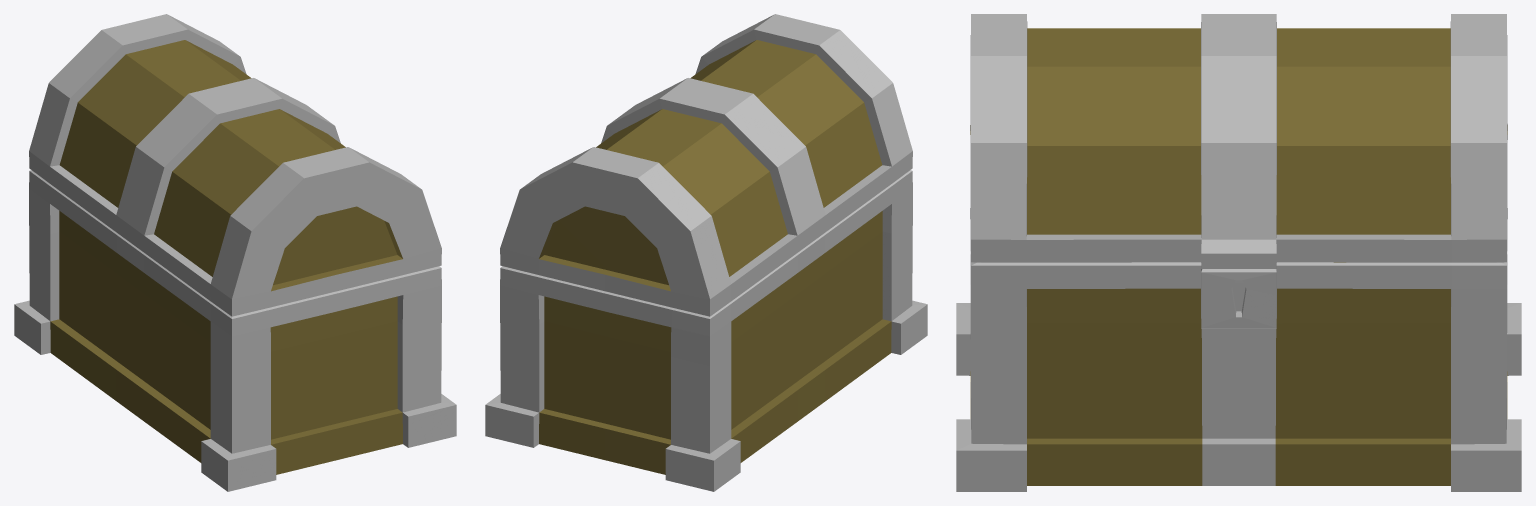
Rendered from treasureChestShaded.fbx.
The picture shows the model from 3 angles, left to right: view 1: azimuth 30°, elevation 25°; view 2: azimuth 150°, elevation 25°; view 3: azimuth 270°, elevation 25°; orthographic projection. The views are drawn at different scales.
Parts seen in each view (by area): view 1: pCylinder2, pCylinder1; view 2: pCylinder2, pCylinder1; view 3: pCylinder2, pCylinder1.
Part boxes in pixels (bbox=[...]): pCylinder2: bbox=[29, 14, 441, 316]; pCylinder1: bbox=[14, 170, 456, 491]; pCylinder2: bbox=[500, 14, 912, 316]; pCylinder1: bbox=[485, 170, 927, 491]; pCylinder2: bbox=[970, 14, 1507, 268]; pCylinder1: bbox=[956, 251, 1521, 491].
Size of the model in its own units: 2.41 by 2.91 by 3.88.
